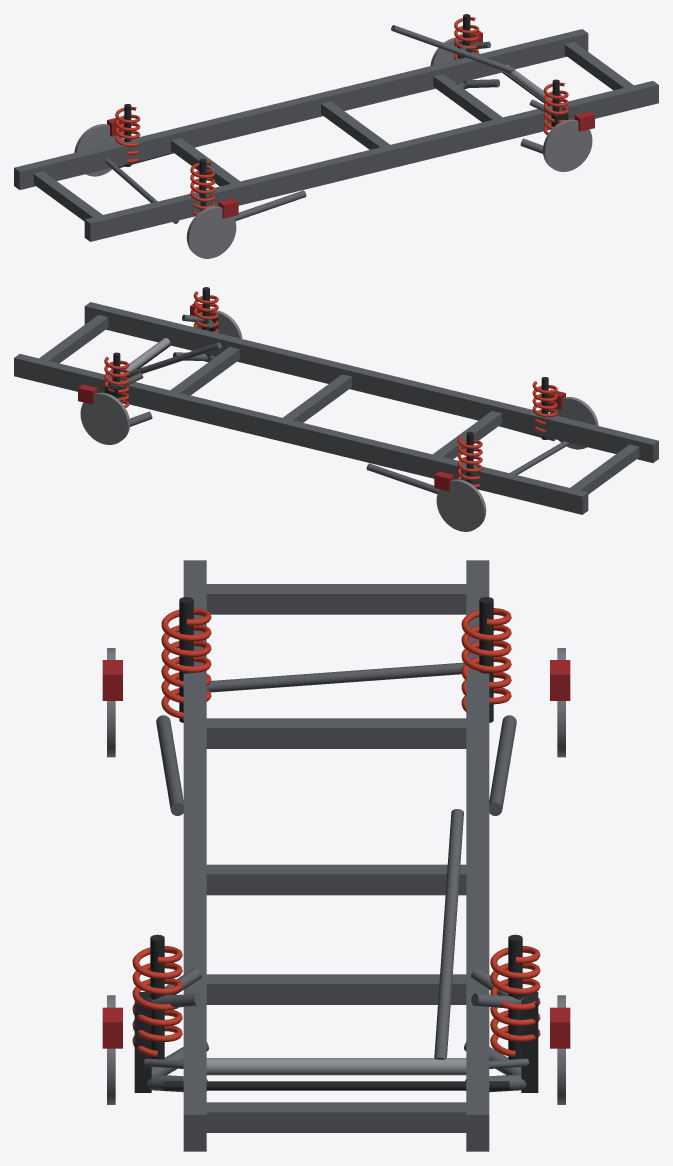
Rendered from demo-suspension.glb.
3 renders of one model, top to bottom at view 1: azimuth 30°, elevation 25°; view 2: azimuth 150°, elevation 25°; view 3: azimuth 270°, elevation 25°, orthographic. The views are drawn at different scales.
Visible parts, largest first — view 1: frame_rail_R, frame_rail_L, brake_disc_FR, brake_disc_RR, crossmember_0, crossmember_4, crossmember_3, crossmember_2, crossmember_1, steering_column, brake_disc_RL, coil_spring_RR (+7 smaller); view 2: frame_rail_L, frame_rail_R, brake_disc_FL, brake_disc_RL, crossmember_0, crossmember_4, crossmember_3, crossmember_2, crossmember_1, brake_disc_RR, coil_spring_RL, coil_spring_RR (+7 smaller); view 3: frame_rail_L, frame_rail_R, crossmember_1, crossmember_4, crossmember_0, crossmember_2, crossmember_3, steering_rack, steering_column, panhard_rod, stabilizer_bar_front, coil_spring_FL (+15 smaller).
Part boxes in pixels (left/top/right/bottom): frame_rail_R: left=84, top=81, right=658, bottom=241; frame_rail_L: left=14, top=29, right=588, bottom=189; brake_disc_FR: left=543, top=119, right=592, bottom=171; brake_disc_RR: left=186, top=206, right=236, bottom=258; crossmember_0: left=33, top=171, right=102, bottom=221; crossmember_4: left=564, top=42, right=633, bottom=90; crossmember_3: left=433, top=74, right=502, bottom=122; crossmember_2: left=321, top=101, right=389, bottom=149; crossmember_1: left=171, top=138, right=239, bottom=186; steering_column: left=391, top=25, right=514, bottom=72; brake_disc_RL: left=74, top=124, right=122, bottom=176; coil_spring_RR: left=190, top=161, right=215, bottom=215; frame_rail_L: left=14, top=354, right=588, bottom=514; frame_rail_R: left=84, top=302, right=658, bottom=462; brake_disc_FL: left=80, top=392, right=129, bottom=444; brake_disc_RL: left=436, top=479, right=486, bottom=531; crossmember_0: left=570, top=444, right=639, bottom=494; crossmember_4: left=39, top=315, right=108, bottom=363; crossmember_3: left=170, top=347, right=239, bottom=395; crossmember_2: left=283, top=374, right=351, bottom=422; crossmember_1: left=433, top=411, right=501, bottom=459; brake_disc_RR: left=549, top=397, right=598, bottom=449; coil_spring_RL: left=457, top=436, right=482, bottom=487; coil_spring_RR: left=532, top=381, right=557, bottom=432; frame_rail_L: left=466, top=560, right=489, bottom=1151; frame_rail_R: left=183, top=560, right=206, bottom=1151; crossmember_1: left=206, top=718, right=466, bottom=748; crossmember_4: left=206, top=1102, right=466, bottom=1132; crossmember_0: left=206, top=584, right=466, bottom=614; crossmember_2: left=206, top=864, right=466, bottom=895; crossmember_3: left=206, top=974, right=466, bottom=1004; steering_rack: left=206, top=1058, right=466, bottom=1075; steering_column: left=434, top=809, right=463, bottom=1059; panhard_rod: left=206, top=662, right=464, bottom=692; stabilizer_bar_front: left=163, top=1081, right=509, bottom=1090; coil_spring_FL: left=490, top=946, right=540, bottom=1057.
Size of the model in its own units: 4.55 by 0.7891 by 1.62.
